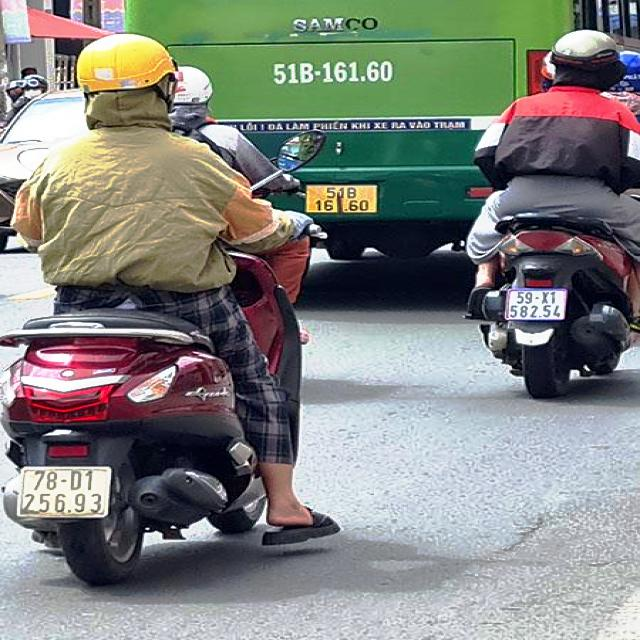license_plate: (20, 468, 109, 519), (308, 183, 380, 214), (507, 290, 567, 322)
